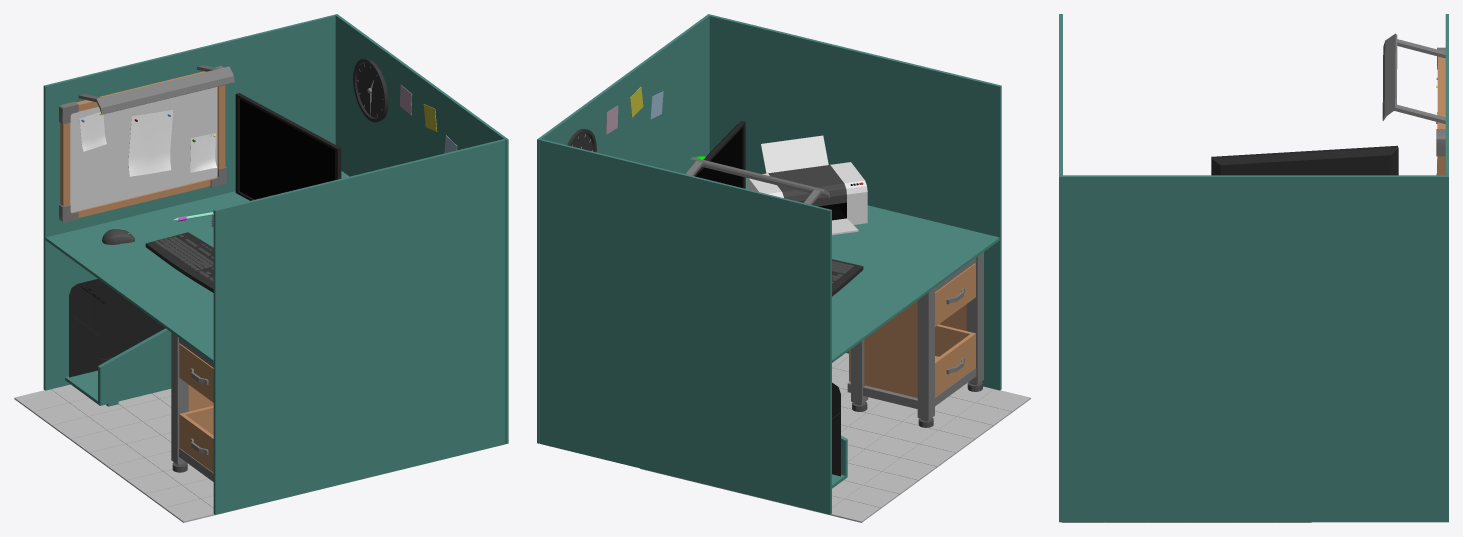
The model's file is StoreConfidential_Main_v8.gltf.
3 renders of one model, left to right at view 1: azimuth 30°, elevation 25°; view 2: azimuth 150°, elevation 25°; view 3: azimuth 270°, elevation 25°, orthographic. The views are drawn at different scales.
Parts seen in each view (by area): view 1: office.025; view 2: office.025; view 3: office.025.
Part boxes in pixels (x1,y1,x2,y2): office.025: [14, 14, 508, 522]; office.025: [537, 14, 1030, 522]; office.025: [1059, 14, 1448, 522].
Size of the model in its own units: 5.03 by 4.53 by 4.62.
